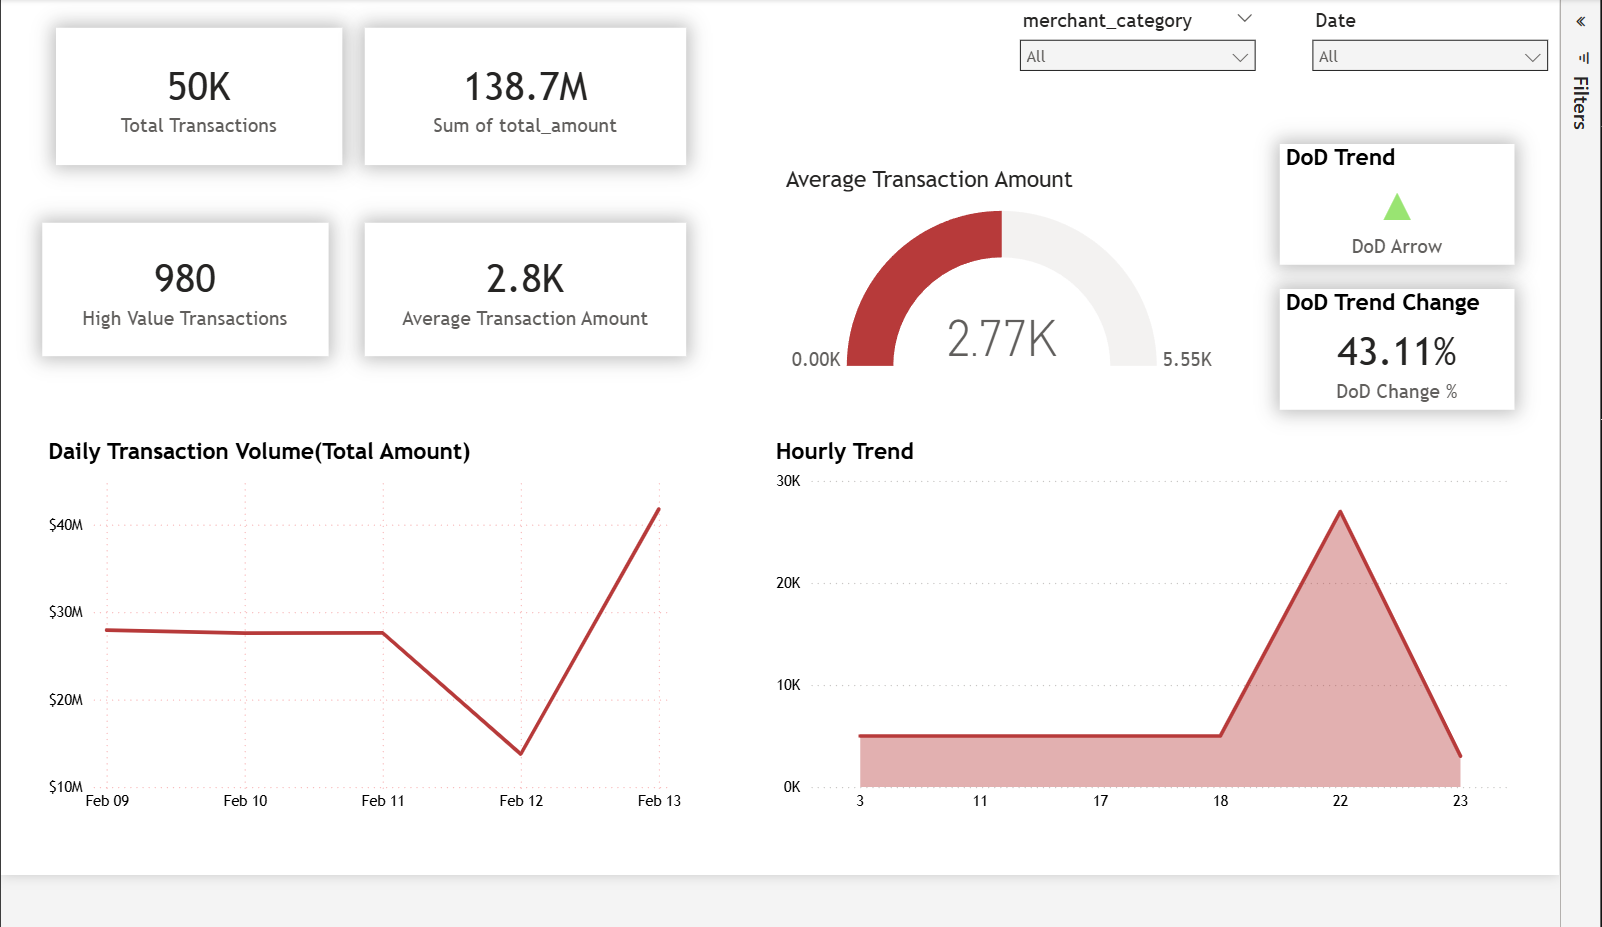

What the dashboard file says about the page in this screenshot:
{"tool":"powerbi","page":{"name":"Executive  Overview","canvas":[1280,720],"ordinal":0},"visuals":[{"type":"lineChart","title":"Daily Transaction Volume(Total Amount)","fields":{"Y":["Sum(gold_daily_kpis.total_amount)"],"Category":["gold_daily_kpis.transaction_date"]},"box":[33.9,360.2,529.6,315],"z":0},{"type":"areaChart","title":"Hourly Trend","fields":{"Category":["gold_hourly_kpis.hour_of_day"],"Y":["Sum(gold_hourly_kpis.txn_count)"]},"box":[631.2,360.2,612,315],"z":1000},{"type":"slicer","fields":{"Values":["DateTable.Date"]},"box":[1066.3,3.5,214,65.1],"z":2000},{"type":"slicer","fields":{"Values":["DimMerchantCategory.merchant_category"]},"box":[826.7,3.5,214,75.6],"z":3000},{"type":"card","fields":{"Values":["gold_daily_kpis.Total Transactions"]},"box":[45.3,23.3,234.9,112.8],"z":4000},{"type":"card","fields":{"Values":["Sum(gold_daily_kpis.total_amount)"]},"box":[298.8,23.3,264,112.8],"z":5000},{"type":"card","fields":{"Values":["gold_daily_kpis.Average Transaction Amount"]},"box":[298.8,183.7,264,109.3],"z":6000},{"type":"card","fields":{"Values":["gold_daily_kpis.High Value Transactions"]},"box":[33.7,183.7,234.9,109.3],"z":7000},{"type":"card","title":"DoD Trend","fields":{"Values":["Modeling.DoD Arrow"]},"box":[1050,118.6,193,98.8],"z":8000},{"type":"card","title":"DoD Trend Change","fields":{"Values":["Modeling.DoD Change %"]},"box":[1050,261.6,193,98.8],"z":9000},{"type":"gauge","fields":{"Y":["gold_daily_kpis.Average Transaction Amount"]},"box":[639.5,136,365.1,186],"z":9001}]}

Visuals, with their boxes on the page's 1280x720 design canvas (x1, y1, x2, y2). These are canvas units, not pixel positions in the 1602x927 screenshot, which may show the page scaled, cropped or inside an application window:
"Daily Transaction Volume(Total Amount)" lineChart: (34, 360, 564, 675)
"Hourly Trend" areaChart: (631, 360, 1243, 675)
slicer - DateTable.Date: (1066, 4, 1280, 69)
slicer - DimMerchantCategory.merchant_category: (827, 4, 1041, 79)
card - gold_daily_kpis.Total Transactions: (45, 23, 280, 136)
card - Sum(gold_daily_kpis.total_amount): (299, 23, 563, 136)
card - gold_daily_kpis.Average Transaction Amount: (299, 184, 563, 293)
card - gold_daily_kpis.High Value Transactions: (34, 184, 269, 293)
"DoD Trend" card: (1050, 119, 1243, 217)
"DoD Trend Change" card: (1050, 262, 1243, 360)
gauge - gold_daily_kpis.Average Transaction Amount: (640, 136, 1005, 322)
